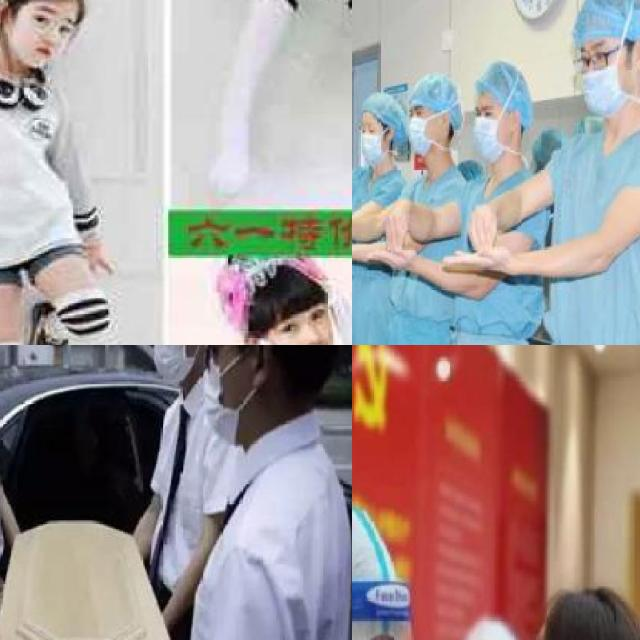face_mask: (194, 345, 257, 433), (582, 36, 632, 116), (466, 92, 514, 166), (404, 100, 444, 158), (358, 109, 391, 169), (149, 345, 192, 376)
face_nomask: (2, 0, 73, 73)
glasses: (570, 49, 612, 75)
hand_glove: (321, 285, 352, 345)
hand_noglove: (440, 244, 508, 274), (465, 203, 497, 249), (82, 242, 120, 276), (383, 204, 409, 250), (370, 246, 412, 270)
head_nohelmet: (525, 567, 640, 640), (222, 257, 321, 325)
person: (176, 345, 352, 640), (0, 0, 145, 345), (518, 0, 640, 345), (118, 345, 240, 595), (446, 63, 546, 345), (386, 81, 460, 345), (352, 101, 407, 345), (0, 345, 37, 604)
shoes: (16, 298, 76, 345)
